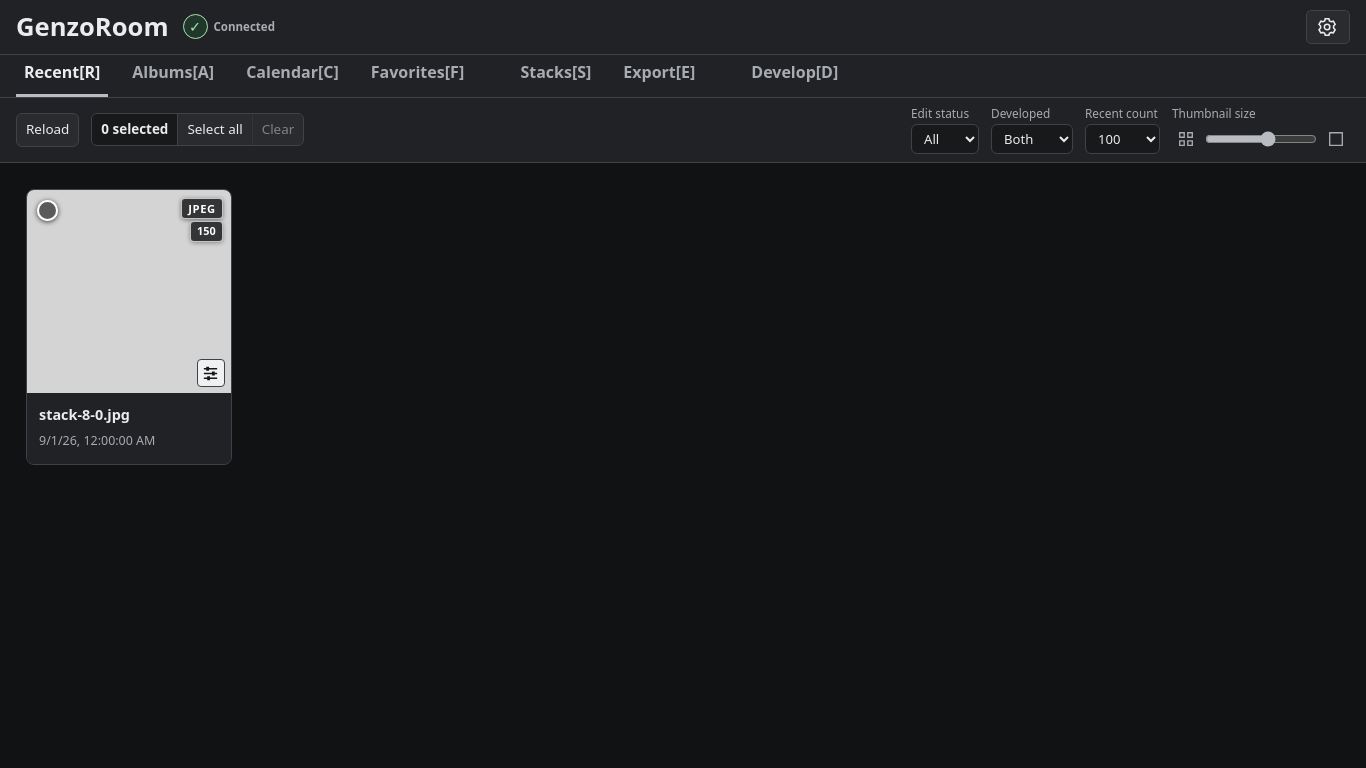
Scenario: Gallery Stack target navigation › shows edit-state partial failure while retaining known candidates and queued removal rows
The width and height of the screenshot is (1366, 768).
Right-click the element showing "stack-8-0.jpg 9/1/26, 12:00:00 AM JPEG 150" at point(129, 327), box x1=26 y1=189 x2=232 y2=465
(page scrolled)
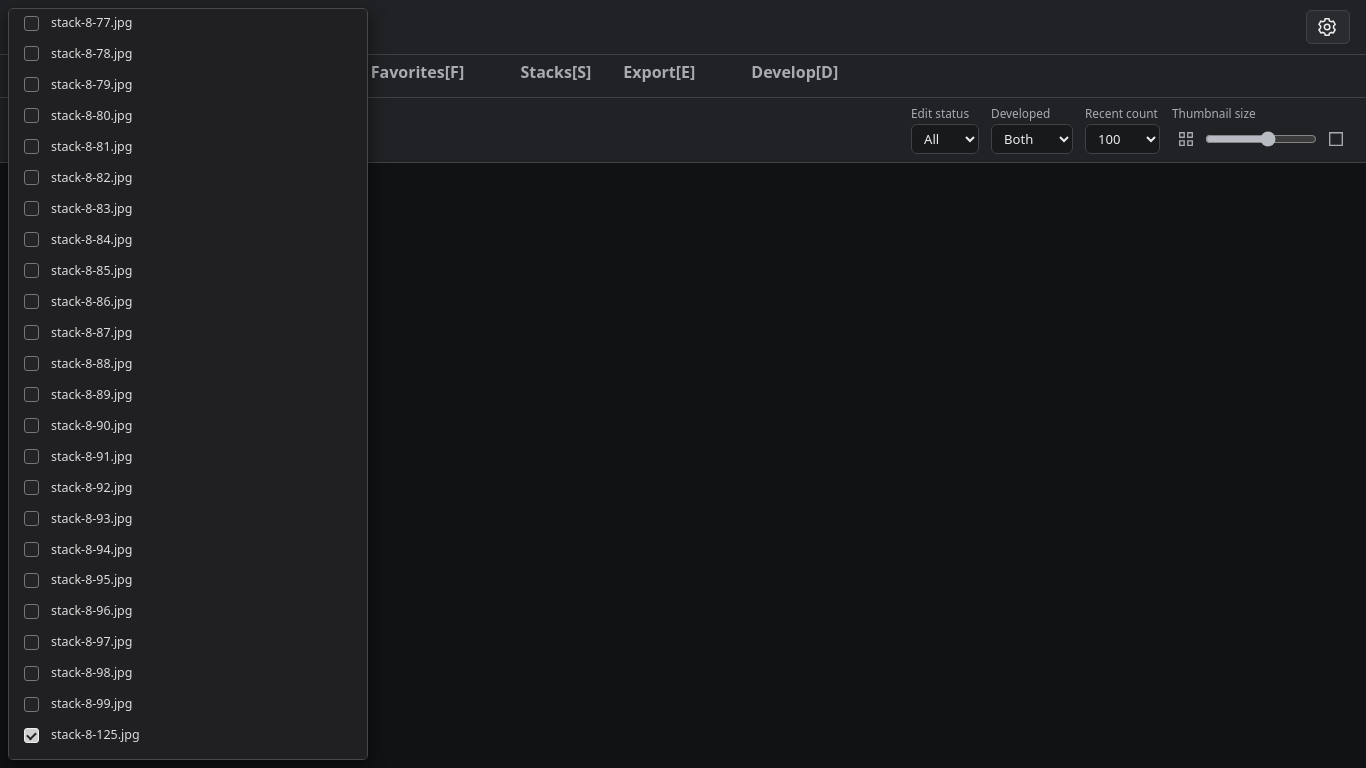
Expected: the checkbox labelled "stack-8-125.jpg" is checked, x1=24 y1=728 x2=39 y2=743
Expected: the checkbox labelled "stack-8-125.jpg" is enabled, x1=24 y1=728 x2=39 y2=743
